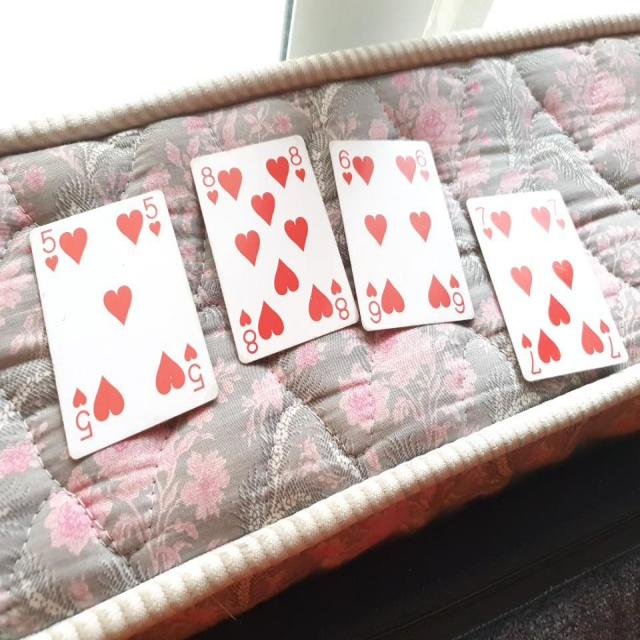5 Hearts: (22, 184, 223, 471)
6 Hearts: (327, 132, 478, 332)
7 Hearts: (458, 176, 631, 389)
8 Hearts: (187, 129, 362, 356)
